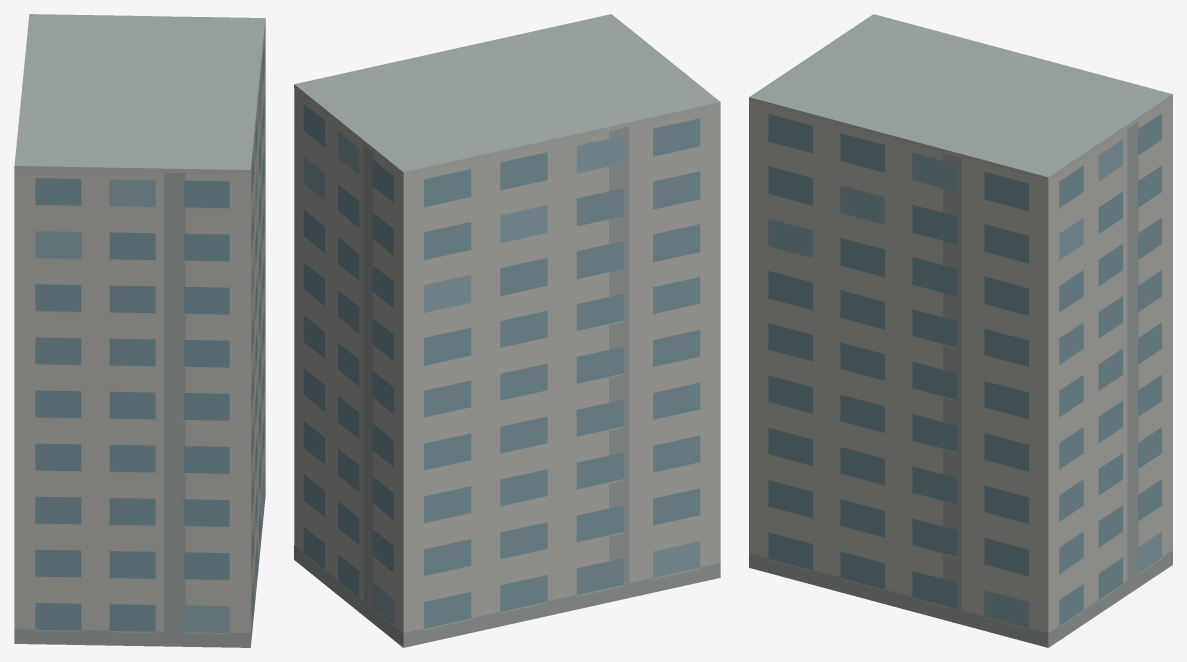
Rendered from residential-56560ffb-5c11-4c4a-8a04-8b4172345e49.glb.
3 views of the same model, side by side, from view 1: azimuth 30°, elevation 25°; view 2: azimuth 150°, elevation 25°; view 3: azimuth 270°, elevation 25° (orthographic).
Visible parts, largest first — view 1: residential-56560ffb-5c11-4c4a-8a04-8b4172345e49.tmp; view 2: residential-56560ffb-5c11-4c4a-8a04-8b4172345e49.tmp; view 3: residential-56560ffb-5c11-4c4a-8a04-8b4172345e49.tmp.
Part boxes in pixels (x1,y1,x2,y2): residential-56560ffb-5c11-4c4a-8a04-8b4172345e49.tmp: (14, 14, 265, 647); residential-56560ffb-5c11-4c4a-8a04-8b4172345e49.tmp: (294, 14, 720, 647); residential-56560ffb-5c11-4c4a-8a04-8b4172345e49.tmp: (749, 14, 1172, 647).
Bounding box in the file's own units: 20.43 × 27.45 × 22.41.
